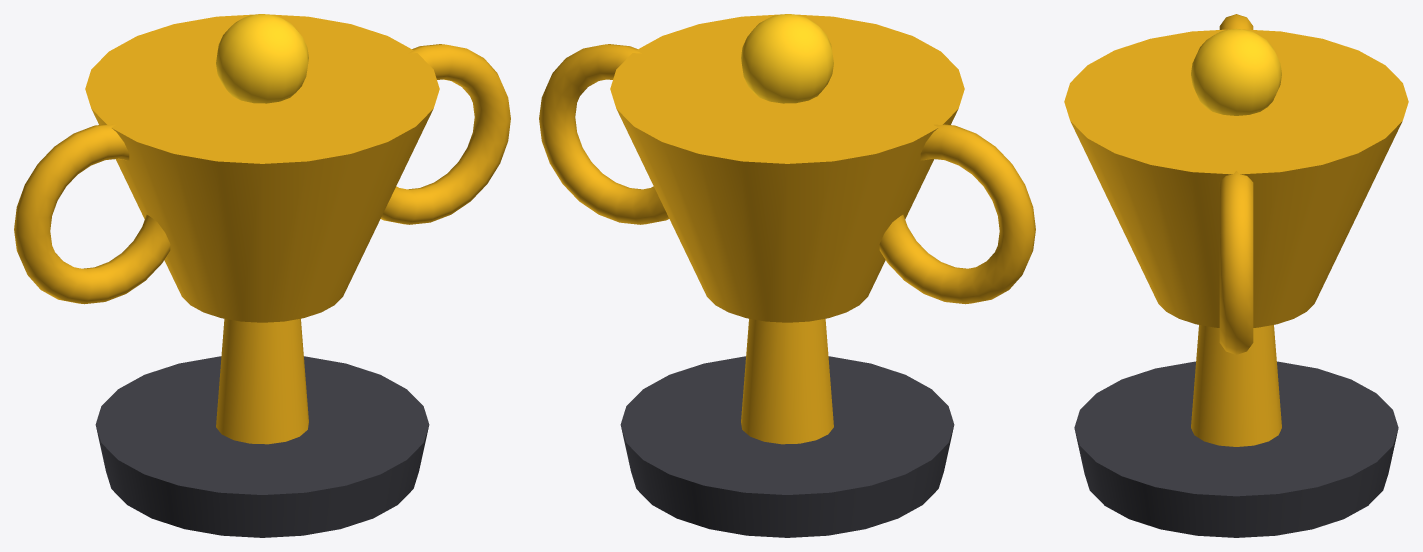
The model's file is trophy.glb.
3 views of the same model, side by side, from view 1: azimuth 30°, elevation 25°; view 2: azimuth 150°, elevation 25°; view 3: azimuth 270°, elevation 25° (orthographic). The views are drawn at different scales.
Bounding box in the file's own units: 1.09 × 0.96 × 0.68.
